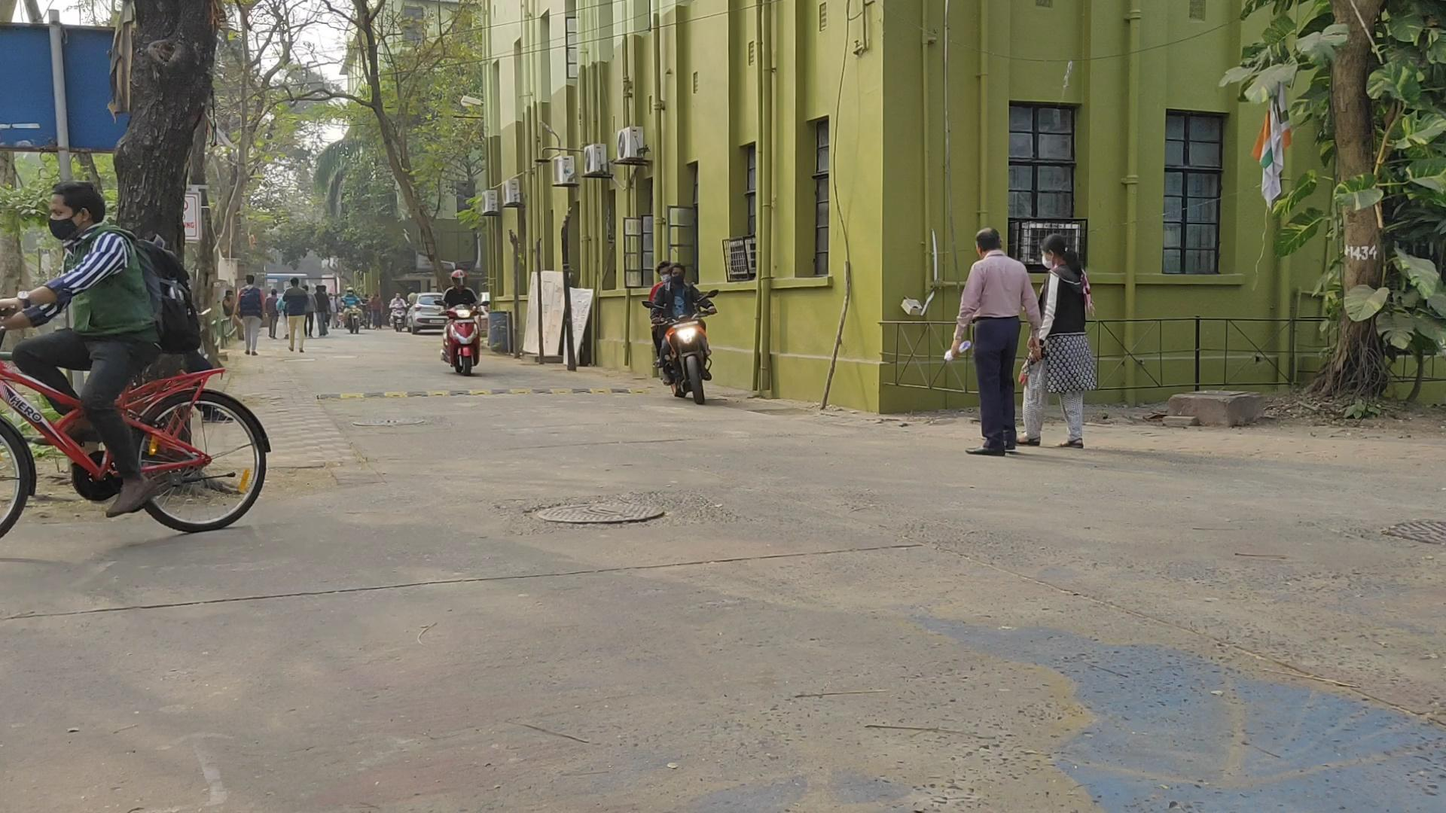bike: (4, 180, 273, 548), (645, 261, 718, 407), (440, 269, 483, 376), (339, 287, 365, 335), (388, 292, 410, 333)
car: (405, 292, 449, 333)
